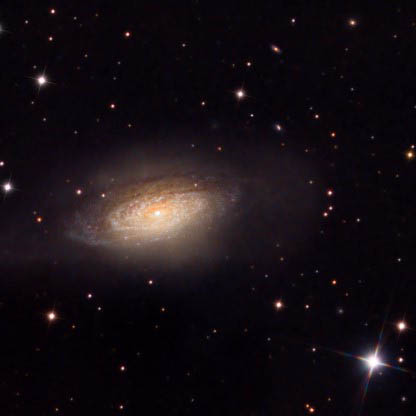NGC 3521: (27, 62, 295, 331)
